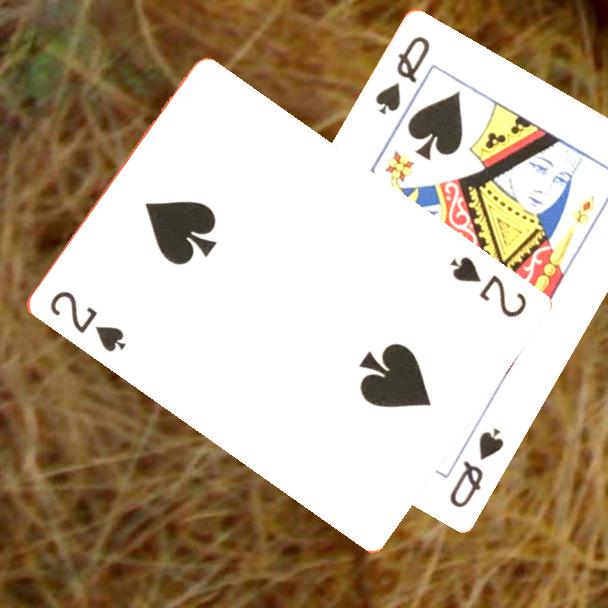s02: (45, 287, 128, 356), (445, 253, 529, 321)
s12: (371, 31, 433, 118), (445, 424, 507, 510)
